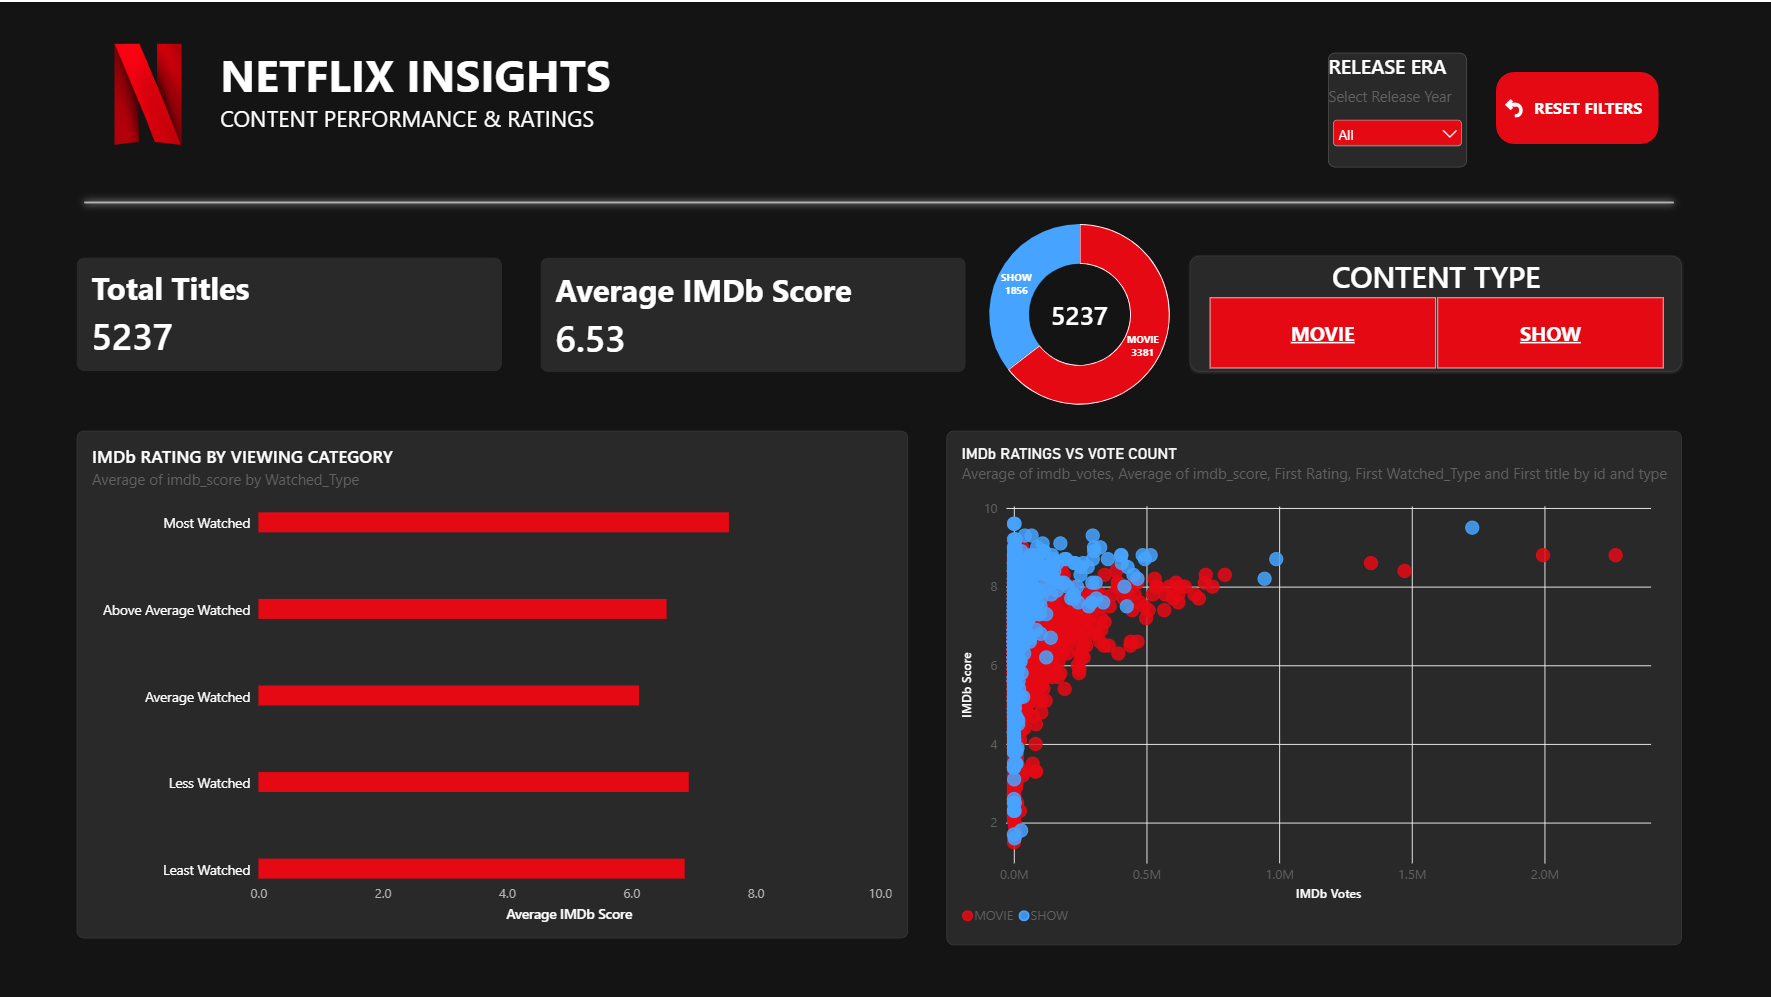

The dashboard page shown, as its layout file describes it:
{"tool":"powerbi","page":{"name":"Page 1","canvas":[1920,1080],"ordinal":0},"visuals":[{"type":"slicer","title":"CONTENT TYPE","fields":{"Values":["Netflix TV Shows and Movies.type"]},"box":[1290,260,532,124],"z":0},{"type":"clusteredBarChart","title":"IMDb RATING BY VIEWING CATEGORY","fields":{"Category":["Netflix TV Shows and Movies.Watched_Type"],"Y":["Avg(Netflix TV Shows and Movies.imdb_score)"]},"box":[86,434,828,578],"z":1000},{"type":"scatterChart","title":"IMDb RATINGS VS VOTE COUNT","fields":{"Category":["Netflix TV Shows and Movies.id"],"Series":["Netflix TV Shows and Movies.type"],"X":["Avg(Netflix TV Shows and Movies.imdb_votes)"],"Y":["Avg(Netflix TV Shows and Movies.imdb_score)"]},"box":[1002,442,820,578],"z":2000},{"type":"actionButton","box":[1620,76,176,78],"z":3000},{"type":"textbox","box":[240,46,454,108],"z":4000},{"type":"shape","box":[86,196,1736,40],"z":5000},{"type":"image","box":[86,24,154,150],"z":6000},{"type":"slicer","title":"RELEASE ERA","fields":{"Values":["Netflix TV Shows and Movies.Release Era"]},"box":[1098,260,150,124],"z":7000},{"type":"cardVisual","fields":{"Data":["Netflix TV Shows and Movies.Total Titles"]},"box":[86,260,460,124],"z":8000},{"type":"cardVisual","fields":{"Data":["Netflix TV Shows and Movies.Average IMDb Score"]},"box":[590,260,460,124],"z":9000}]}

Visuals, with their boxes in screenshot pixels (x1, y1, x2, y2), scaled from the page's 1920x1080 canvas onto the 1771x997 screenshot:
"CONTENT TYPE" slicer: x1=1190, y1=240, x2=1681, y2=354
"IMDb RATING BY VIEWING CATEGORY" clusteredBarChart: x1=79, y1=401, x2=843, y2=934
"IMDb RATINGS VS VOTE COUNT" scatterChart: x1=924, y1=408, x2=1681, y2=942
actionButton: x1=1494, y1=70, x2=1657, y2=142
textbox: x1=221, y1=42, x2=640, y2=142
shape: x1=79, y1=181, x2=1681, y2=218
image: x1=79, y1=22, x2=221, y2=161
"RELEASE ERA" slicer: x1=1013, y1=240, x2=1151, y2=354
cardVisual - Netflix TV Shows and Movies.Total Titles: x1=79, y1=240, x2=504, y2=354
cardVisual - Netflix TV Shows and Movies.Average IMDb Score: x1=544, y1=240, x2=969, y2=354
